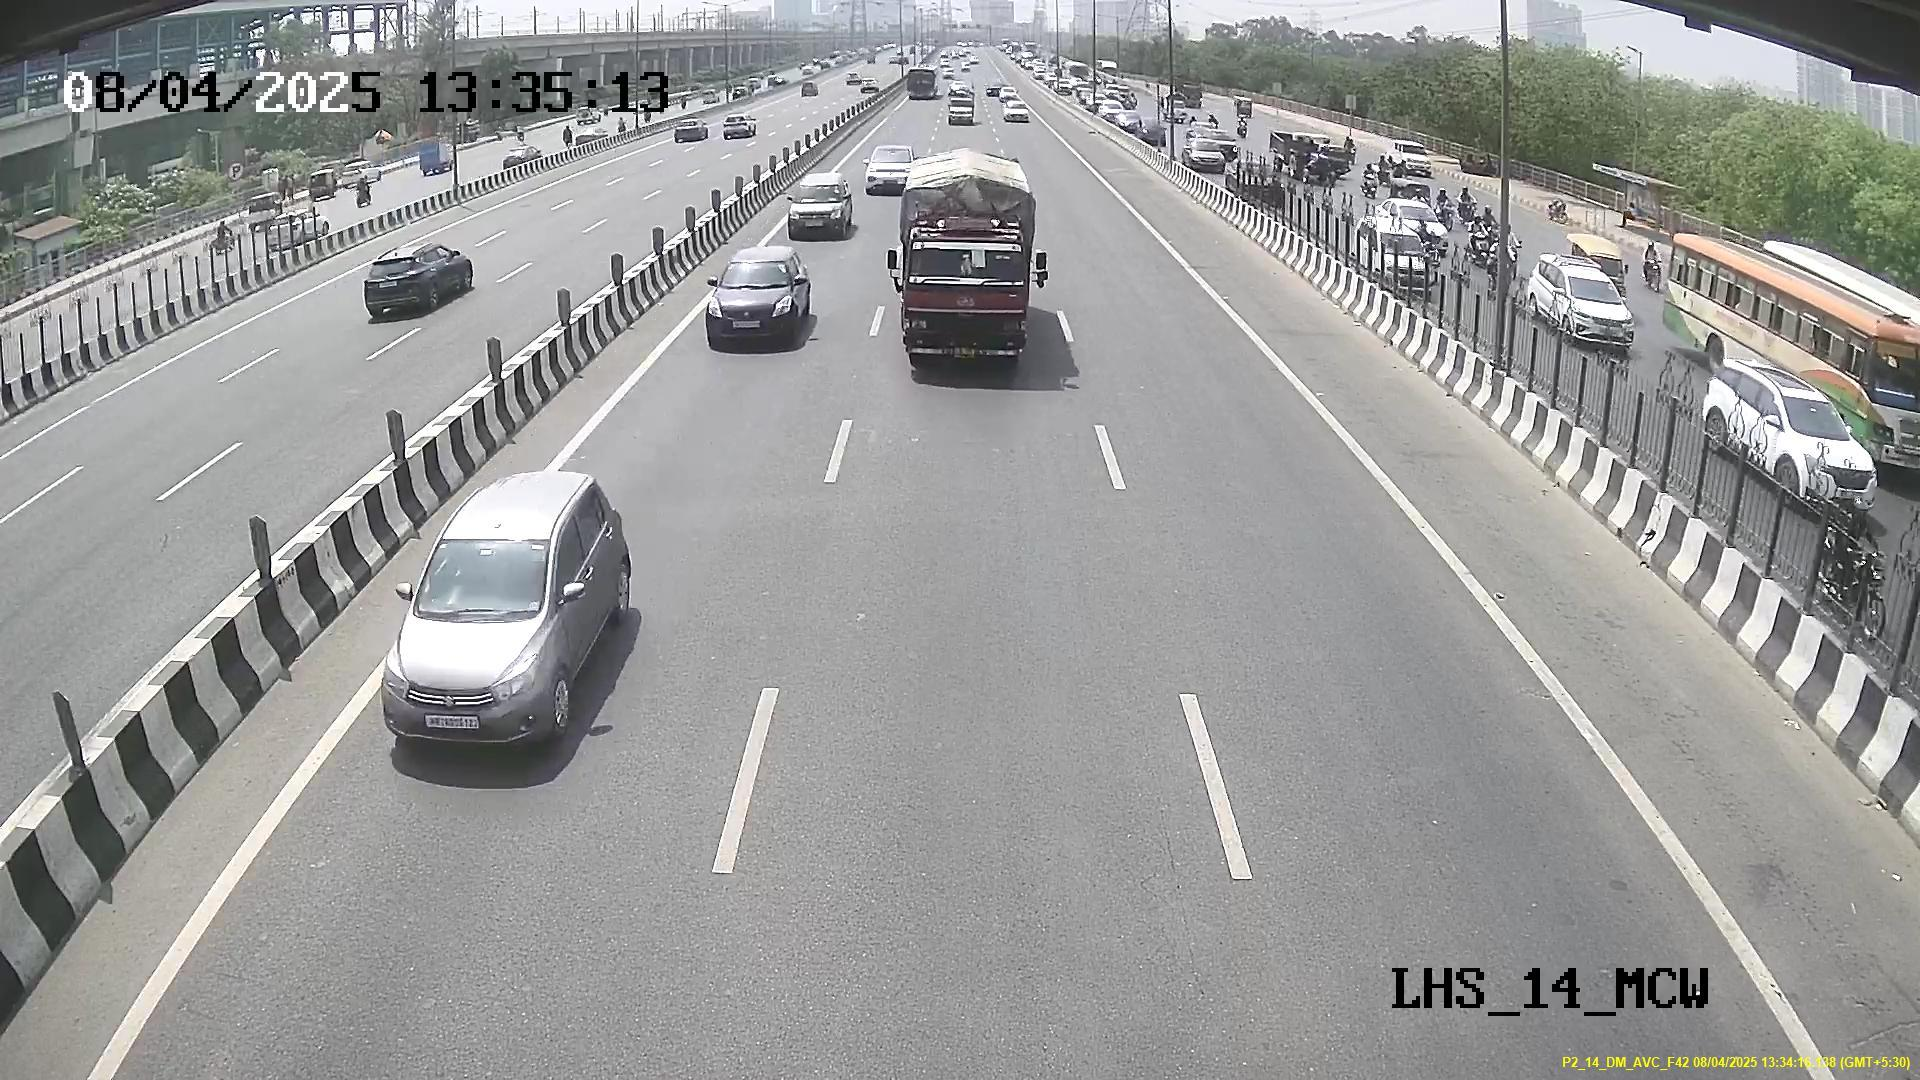car: (378, 512, 597, 754), (703, 256, 810, 353), (782, 173, 852, 245), (864, 141, 913, 195)
lcv: (897, 220, 1033, 373)
